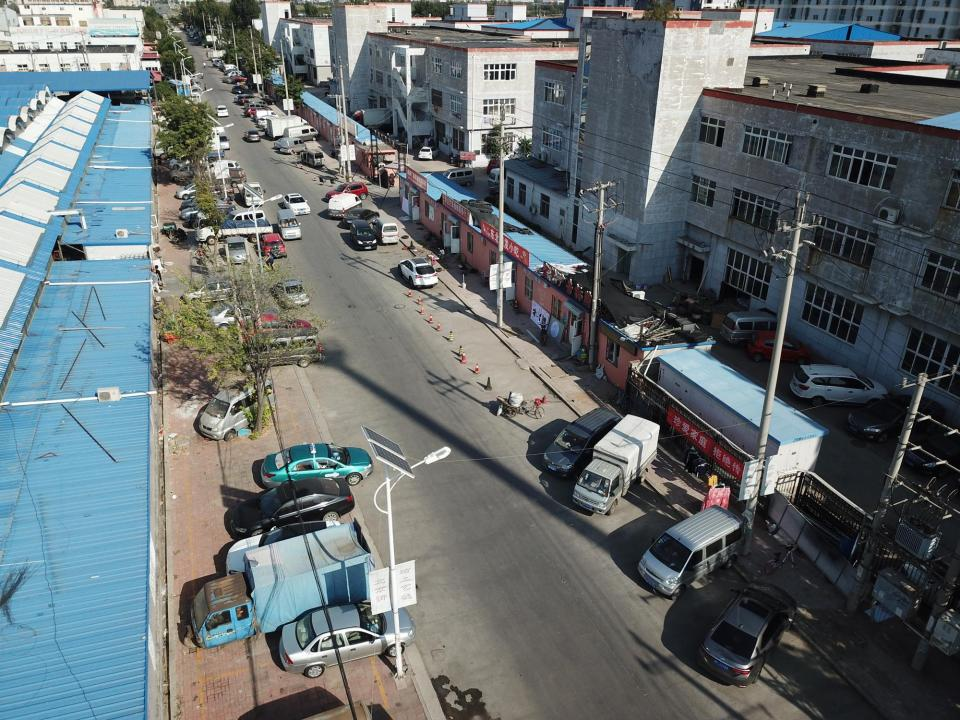bus: (167, 80, 190, 99)
car: (697, 580, 797, 688), (279, 605, 416, 678), (231, 476, 355, 542), (227, 520, 341, 581), (542, 408, 622, 479), (260, 443, 374, 491), (847, 395, 945, 444), (790, 364, 888, 410), (200, 304, 278, 332), (240, 312, 312, 342), (747, 332, 811, 364), (182, 280, 238, 306), (399, 258, 438, 288), (274, 278, 310, 306), (350, 220, 378, 250), (326, 182, 368, 202), (206, 168, 248, 187), (189, 184, 235, 201), (180, 195, 232, 210), (170, 164, 212, 182), (342, 208, 380, 227), (180, 204, 228, 219), (260, 233, 287, 259), (224, 236, 248, 264), (169, 154, 208, 170), (283, 193, 311, 215), (176, 183, 214, 199), (489, 184, 524, 200), (613, 385, 631, 414), (204, 160, 240, 173), (244, 107, 273, 118), (418, 146, 440, 160), (274, 138, 298, 149), (258, 115, 280, 126), (486, 158, 502, 173), (246, 103, 272, 112), (244, 129, 260, 141), (238, 96, 257, 105), (254, 98, 276, 105), (216, 105, 228, 117), (233, 95, 251, 102), (389, 134, 399, 146), (231, 85, 244, 94), (224, 69, 243, 75), (222, 76, 235, 84), (227, 72, 244, 78), (232, 76, 248, 82), (219, 65, 231, 70), (220, 66, 234, 70), (188, 74, 197, 80), (174, 30, 184, 33), (209, 47, 215, 51)
truck: (183, 518, 376, 649), (572, 414, 661, 516), (194, 212, 273, 244), (153, 134, 220, 160), (268, 115, 312, 138), (352, 108, 391, 128), (236, 182, 264, 206), (185, 148, 225, 163), (260, 121, 287, 132), (207, 50, 224, 59)
van: (637, 505, 746, 600), (200, 377, 276, 442), (236, 328, 321, 372), (720, 311, 785, 347), (328, 193, 362, 217), (276, 209, 302, 240), (224, 208, 266, 227), (371, 218, 399, 244), (439, 167, 475, 186), (488, 168, 520, 186), (284, 125, 320, 140), (296, 149, 326, 166), (280, 138, 308, 154), (255, 110, 281, 122), (217, 132, 230, 150), (508, 154, 522, 170), (244, 98, 263, 108), (248, 100, 269, 109), (222, 64, 238, 71), (190, 86, 200, 97), (192, 80, 201, 88), (213, 59, 223, 66)
